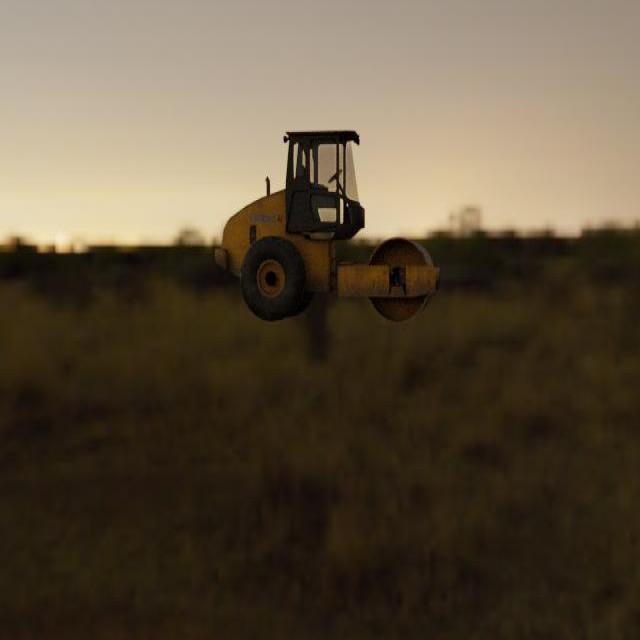Roller: (214, 129, 440, 324)
